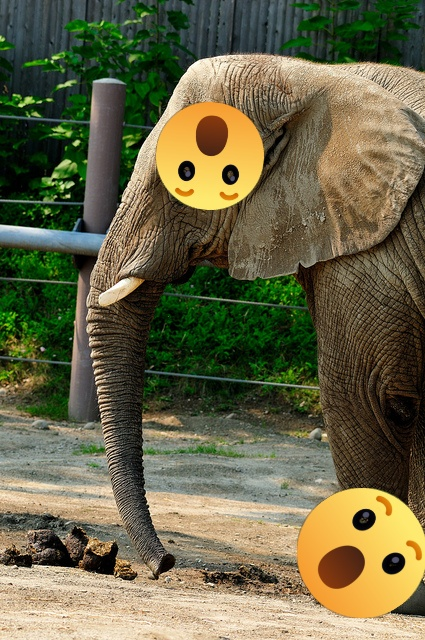wow: (297, 488, 425, 618), (156, 102, 264, 210)
